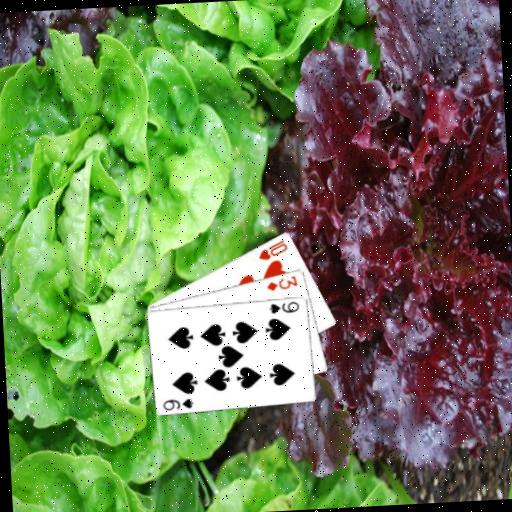10H: (255, 236, 290, 262)
3D: (264, 272, 300, 292)
9S: (266, 298, 301, 315), (160, 395, 195, 412)
